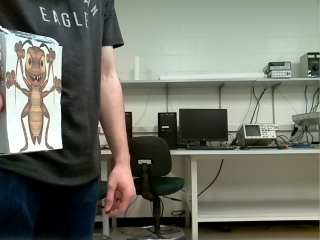Angry: (6, 40, 61, 152)
